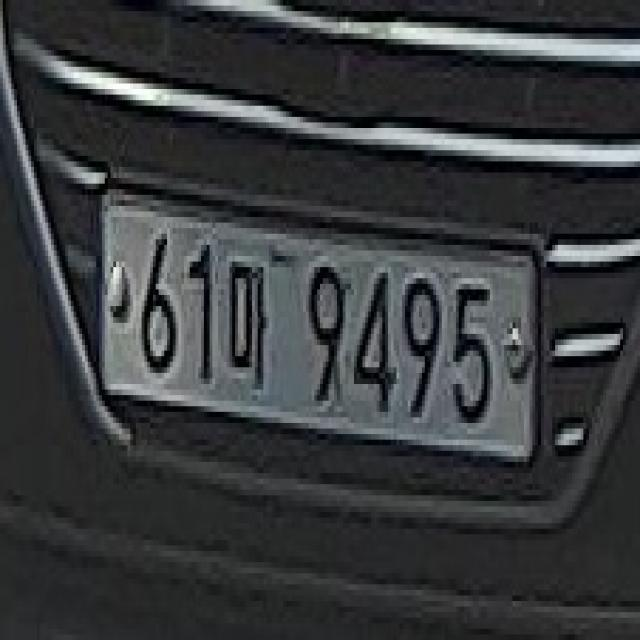1: (182, 235, 220, 385)
4: (350, 268, 400, 418)
5: (448, 276, 497, 430)
6: (134, 222, 179, 384)
9: (302, 255, 348, 410), (402, 263, 444, 423)
license_plate: (90, 171, 563, 501)
ma: (223, 248, 278, 396)
